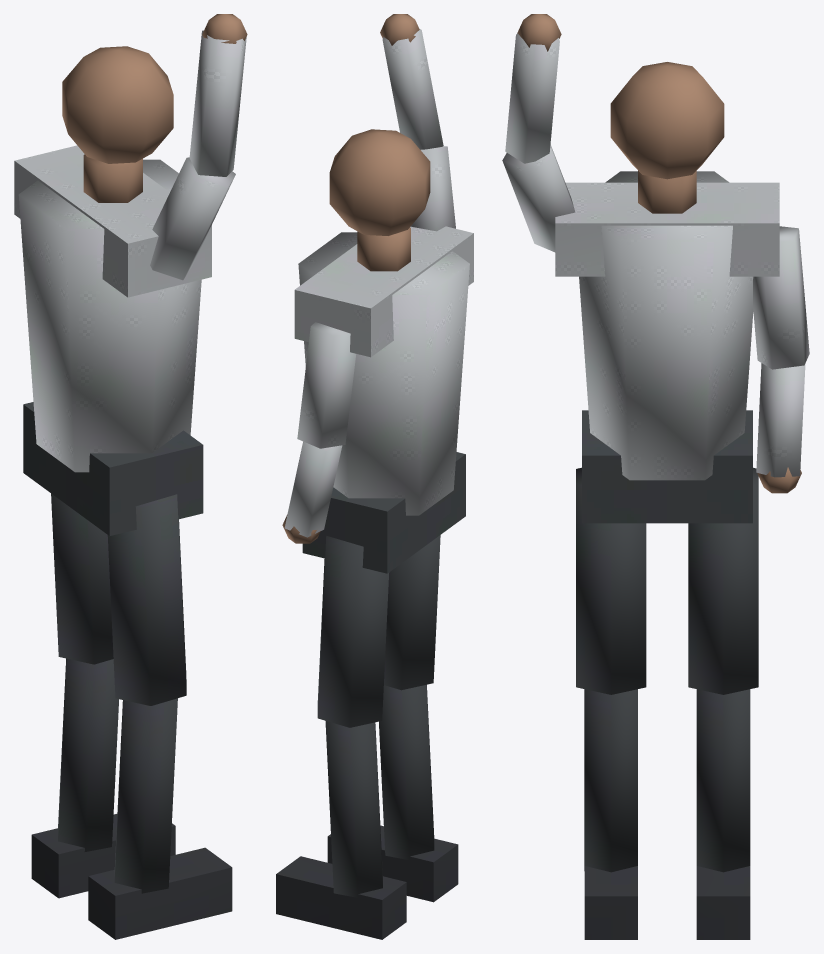
File: crowd-standing-2_mobile.glb
3 views of the same model, side by side, from view 1: azimuth 30°, elevation 25°; view 2: azimuth 150°, elevation 25°; view 3: azimuth 270°, elevation 25° (orthographic). The views are drawn at different scales.
Visible parts, largest first — view 1: clothing, dark-steel, skin, rubber; view 2: clothing, dark-steel, skin, rubber; view 3: clothing, dark-steel, skin, rubber.
Boxes of the visible parts, box(x1,y1,x2,y2) form: clothing: box(14, 30, 246, 472); dark-steel: box(23, 402, 203, 893); skin: box(62, 14, 247, 202); rubber: box(31, 814, 232, 939); clothing: box(284, 29, 473, 537); dark-steel: box(302, 452, 465, 897); skin: box(282, 14, 430, 543); rubber: box(276, 825, 458, 939); clothing: box(502, 33, 809, 480); dark-steel: box(576, 410, 758, 872); skin: box(517, 14, 801, 493); rubber: box(584, 866, 750, 939).
Bounding box in the file's own units: 0.3166 × 1.88 × 0.5752.
Materials: 4 (3 with a texture image).
